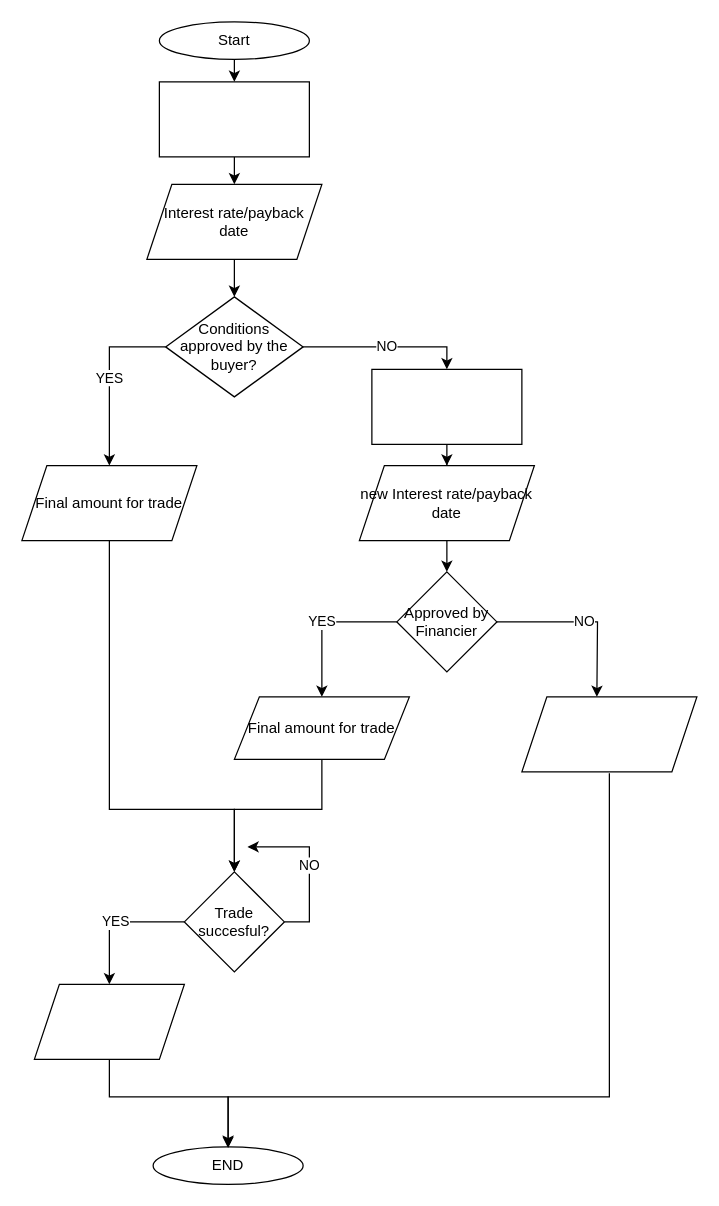
Image size: 719x1206. Some labels were removed from this diagram. Here are the shapes that lost their labels. From the top down, the box of each, then its label:
(158, 81, 309, 157): Conditions for the Financial agreement
(371, 368, 522, 444): Buyer creates proposal
(521, 696, 697, 772): Trade stopped. No consent on prices
(33, 983, 184, 1059): Amount unlocked
